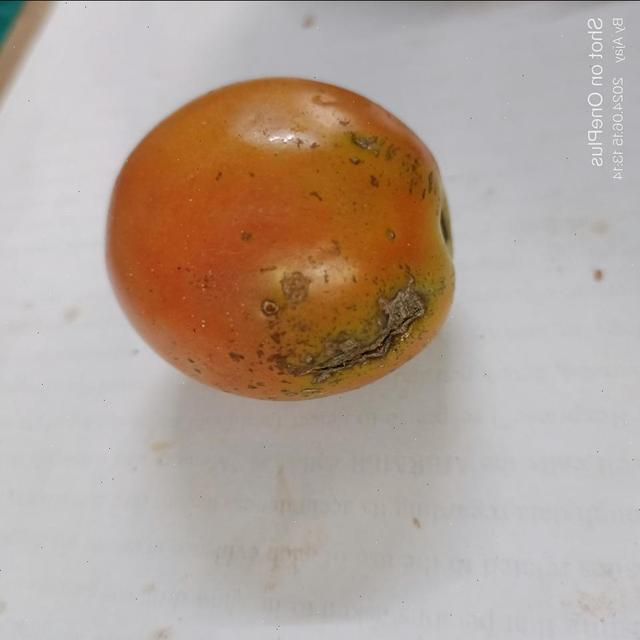Bacterial Spot Fruit: (29, 30, 246, 221)
